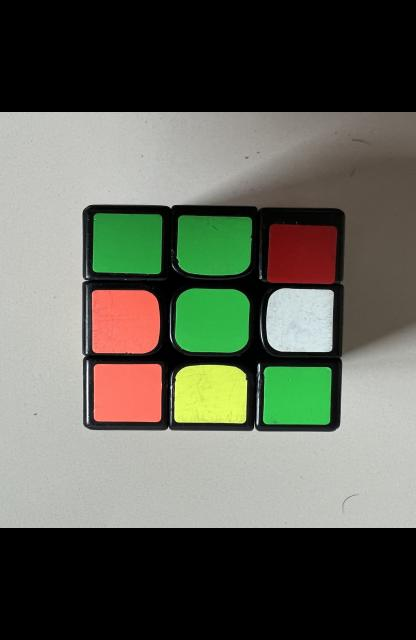Green: (174, 289, 249, 352), (176, 215, 250, 276), (92, 213, 162, 274), (262, 367, 330, 425)
Orange: (90, 290, 159, 354), (93, 363, 160, 422)
Red: (266, 224, 337, 284)
White: (266, 289, 333, 352)
Yellow: (173, 364, 247, 424)
